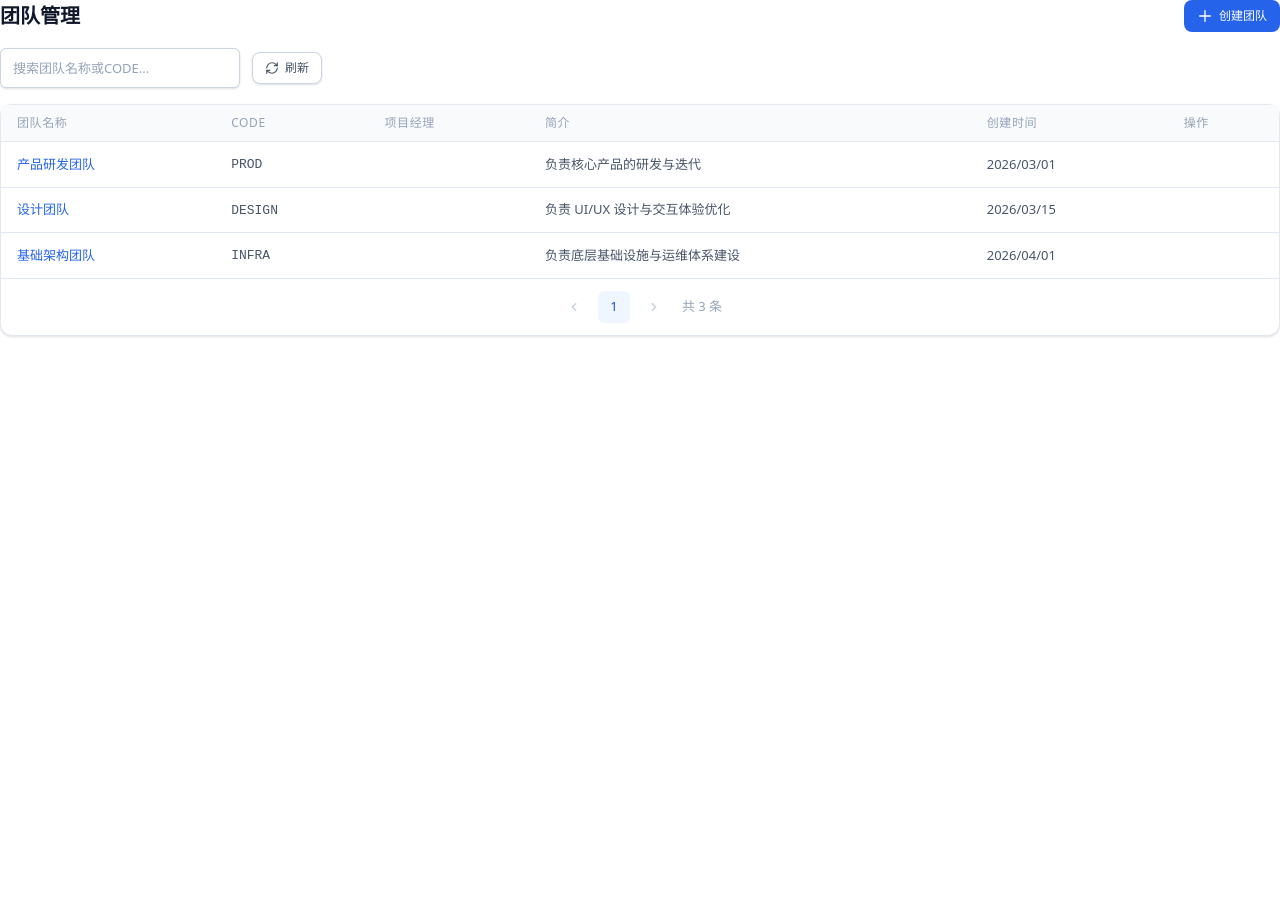
Scenario: TeamManagementPage › opens create team dialog when clicking create button
Expected: the link "产品研发团队" is shown, [17,154,95,172]
Click the button "创建团队". click: (1232, 16)
box: [1184,0,1279,32]
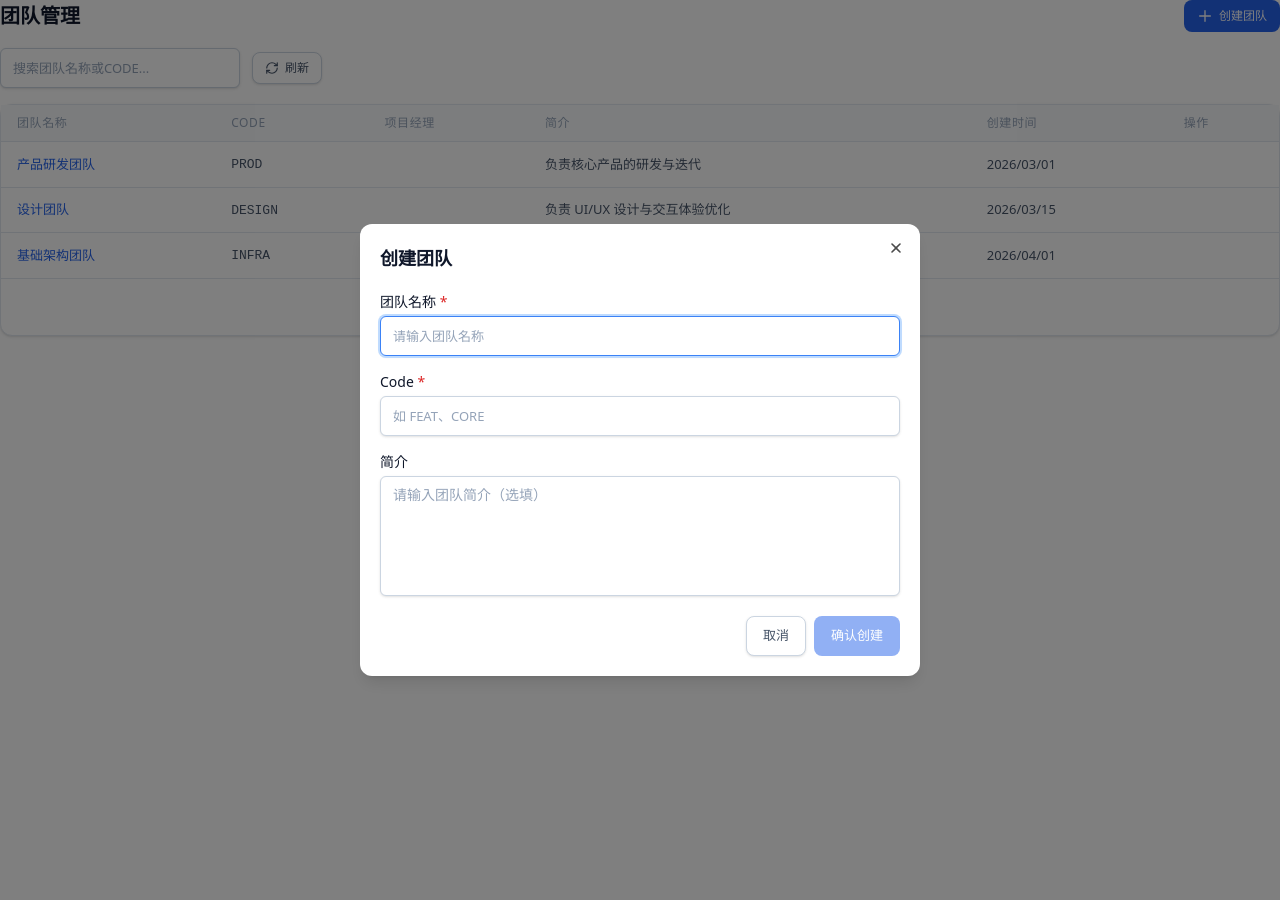
Now the heading "创建团队" is shown, box [380,246,452,270]
